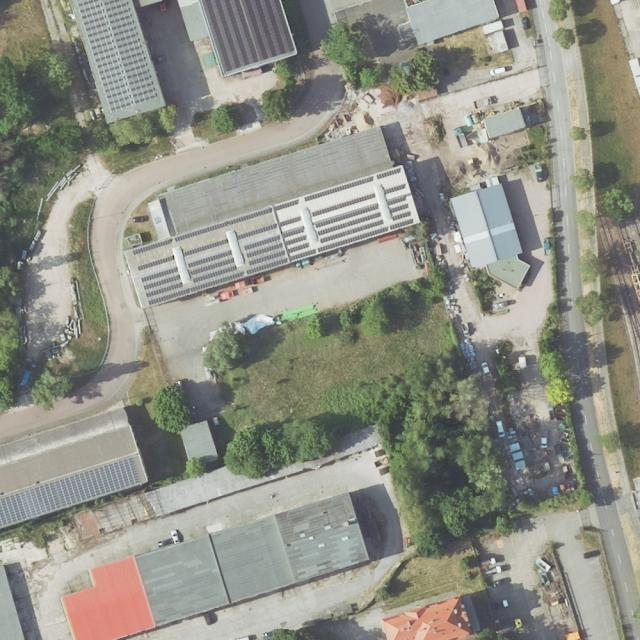PV: (136, 181, 416, 306), (132, 167, 402, 257), (0, 457, 141, 528), (75, 0, 159, 115), (199, 0, 295, 71)
